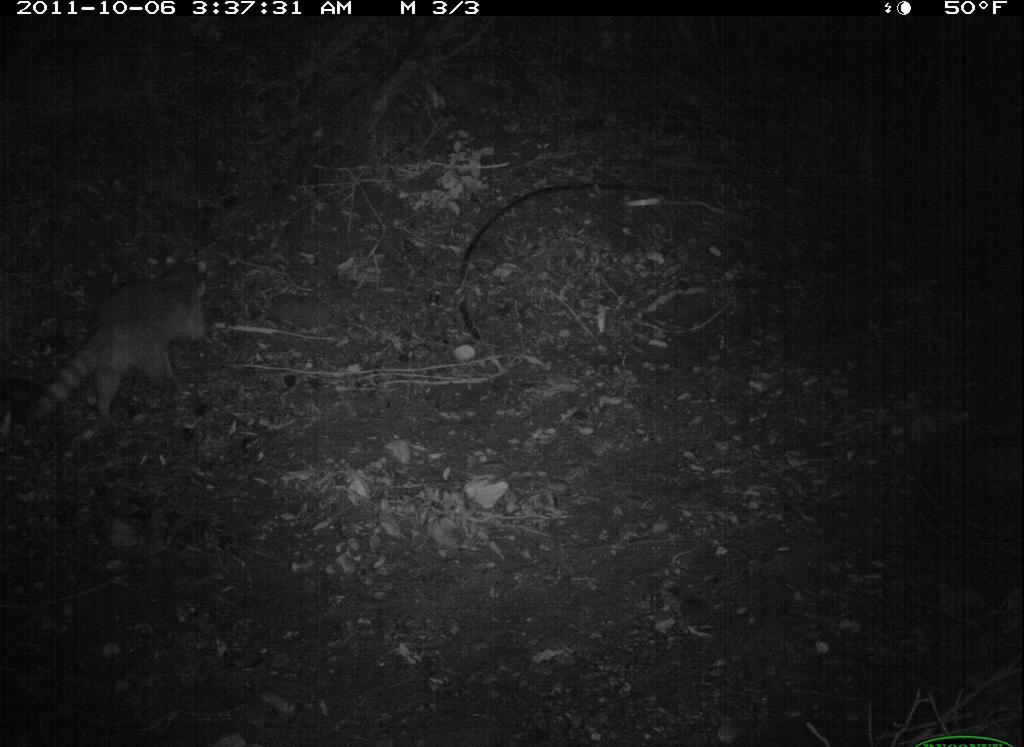raccoon: (13, 237, 232, 466)
